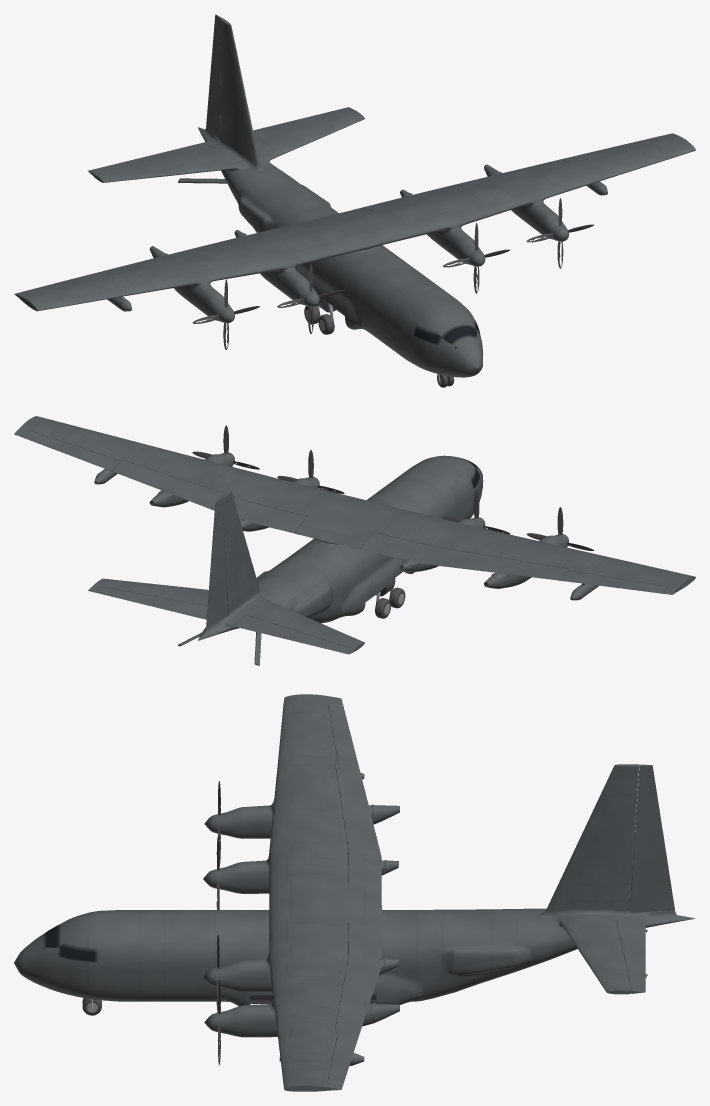
The picture shows the model from 3 angles, top to bottom: view 1: azimuth 30°, elevation 25°; view 2: azimuth 150°, elevation 25°; view 3: azimuth 270°, elevation 25°; orthographic projection. The views are drawn at different scales.
Visible parts, largest first — view 1: airframe, fsim:flaps (×2), fsim:elevator (×2), fsim:rudder; view 2: airframe, fsim:flaps (×2), fsim:elevator (×2), fsim:aileron (×2), fsim:rudder; view 3: airframe, fsim:flaps (×2), fsim:rudder, fsim:aileron (×2), fsim:elevator.
Part boxes in pixels (x1,y1,x2,y2): airframe: [14, 18, 695, 377]; fsim:flaps (×2): [112, 159, 568, 271]; fsim:elevator (×2): [88, 107, 353, 175]; fsim:rudder: [206, 14, 221, 140]; airframe: [14, 416, 695, 665]; fsim:flaps (×2): [112, 460, 569, 580]; fsim:elevator (×2): [88, 585, 354, 654]; fsim:aileron (×2): [23, 431, 667, 593]; fsim:rudder: [206, 498, 228, 627]; airframe: [14, 694, 695, 1091]; fsim:flaps (×2): [335, 763, 381, 1034]; fsim:rudder: [630, 764, 674, 912]; fsim:aileron (×2): [328, 702, 359, 1084]; fsim:elevator: [616, 920, 645, 993].
Bounding box in the file's own units: 40.42 × 11.95 × 29.76.
Materials: 5 (1 with a texture image).
